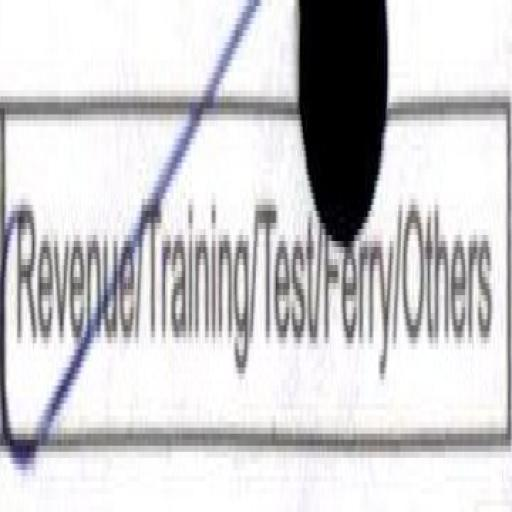check: (0, 61, 145, 502)
